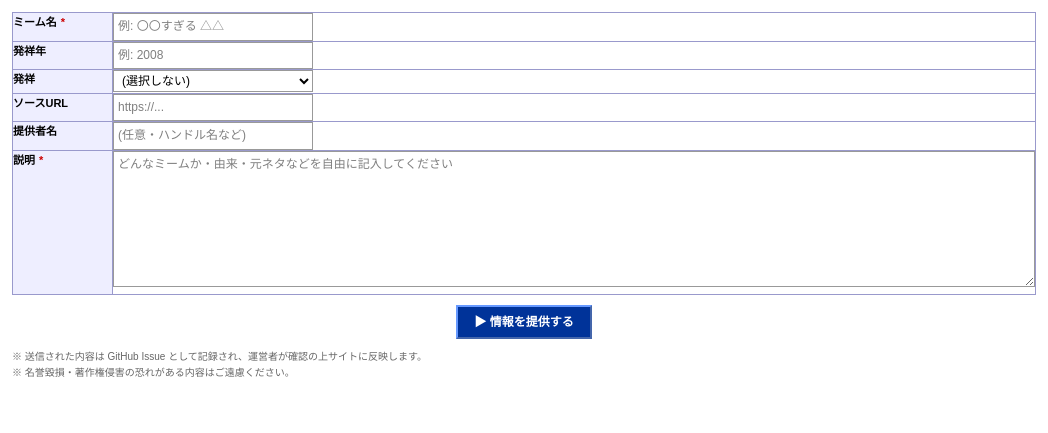
Test case: SubmitForm › Worker がエラーを返すとエラーメッセージを表示
Type "x" into the field with placeholder "例: 〇〇すぎる △△" at coordinates (213, 27), box x1=113 y1=13 x2=313 y2=41
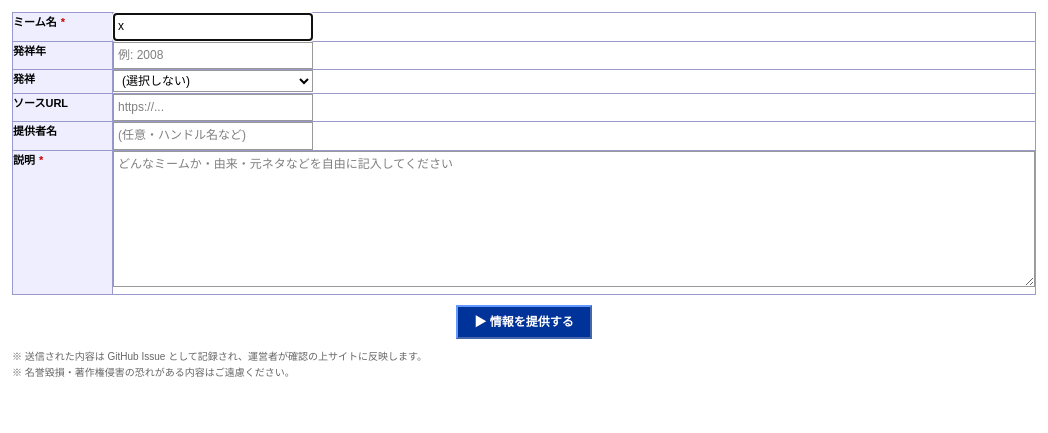
Type "y" into the text box with placeholder "どんなミームか・由来・元ネタなどを自由に記入してください" at coordinates (574, 219), box x1=113 y1=151 x2=1035 y2=287
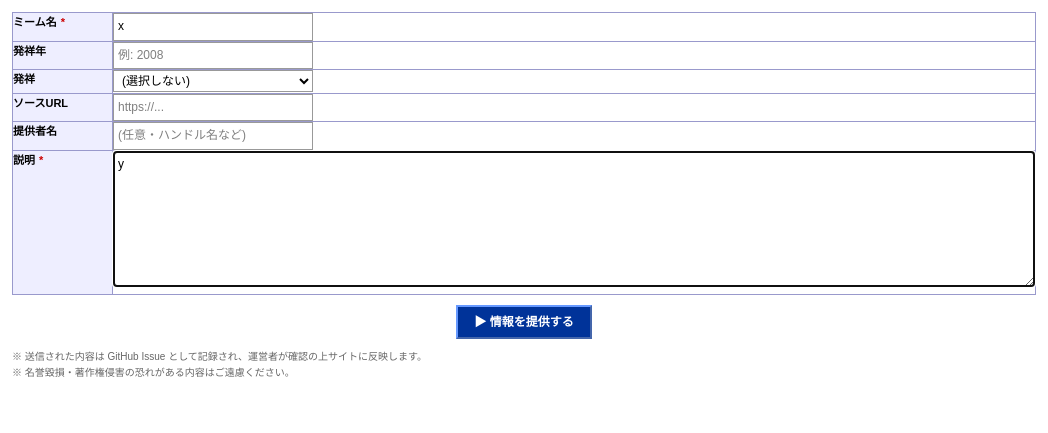
Click the button "▶ 情報を提供する" at coordinates (524, 322), box x1=456 y1=305 x2=592 y2=339
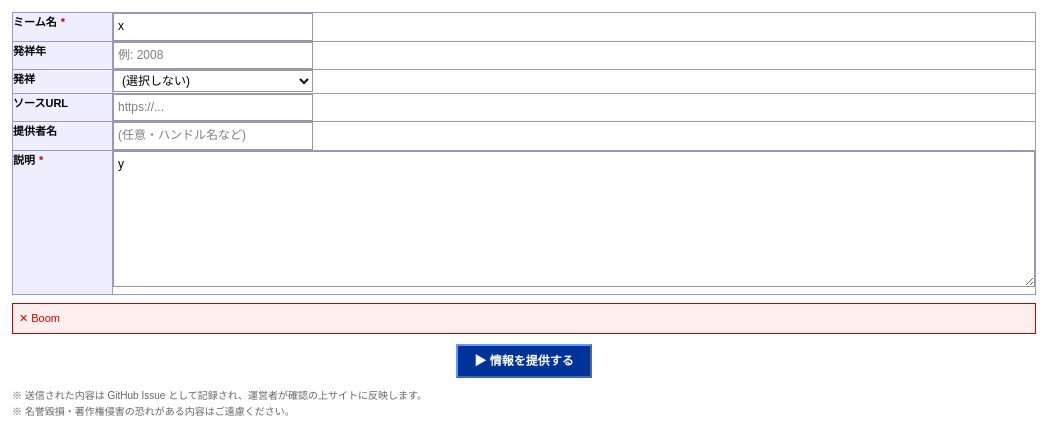
Now the message "✕ Boom" is shown, box x1=12 y1=303 x2=1036 y2=334
